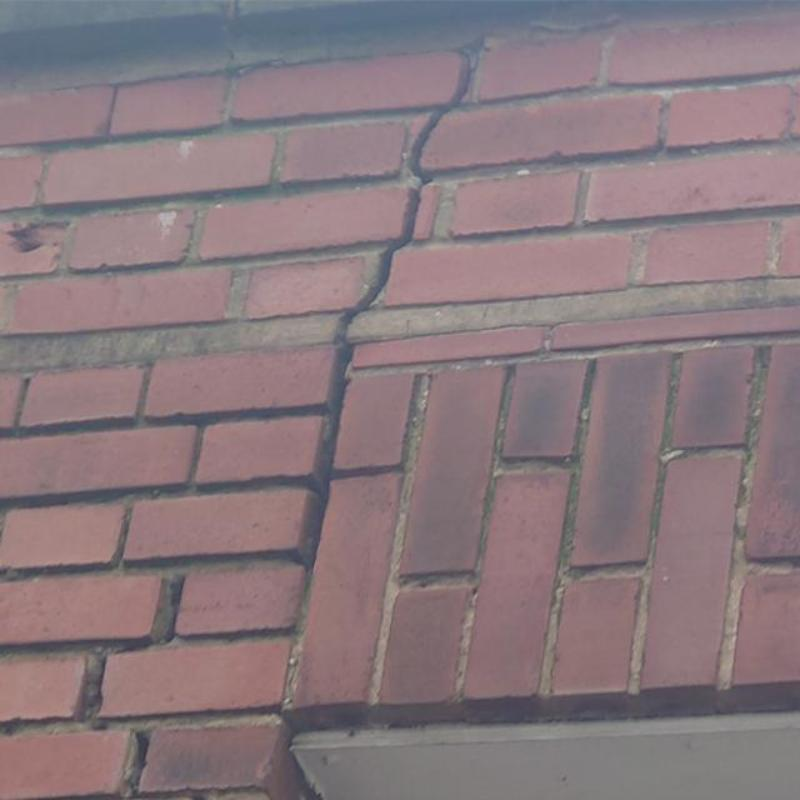pothole: (353, 45, 477, 315), (301, 312, 355, 591), (91, 576, 184, 714), (129, 732, 149, 798)
